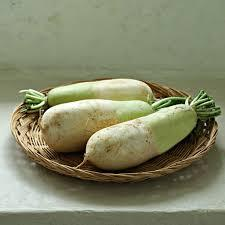radish: (31, 37, 70, 60), (13, 35, 54, 53), (17, 28, 54, 39)
